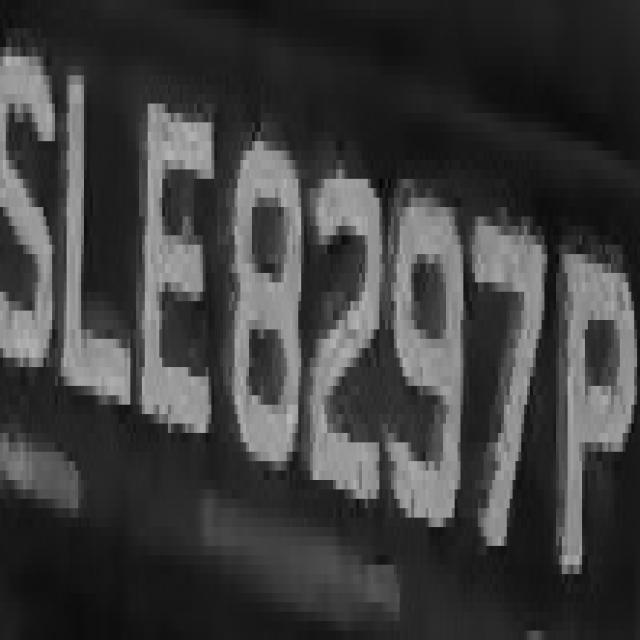2: (304, 113, 391, 527)
7: (466, 188, 553, 593)
8: (226, 103, 310, 490)
9: (388, 141, 466, 565)
E: (125, 66, 217, 480)
L: (58, 57, 127, 461)
P: (553, 216, 640, 612)
S: (0, 10, 64, 414)
